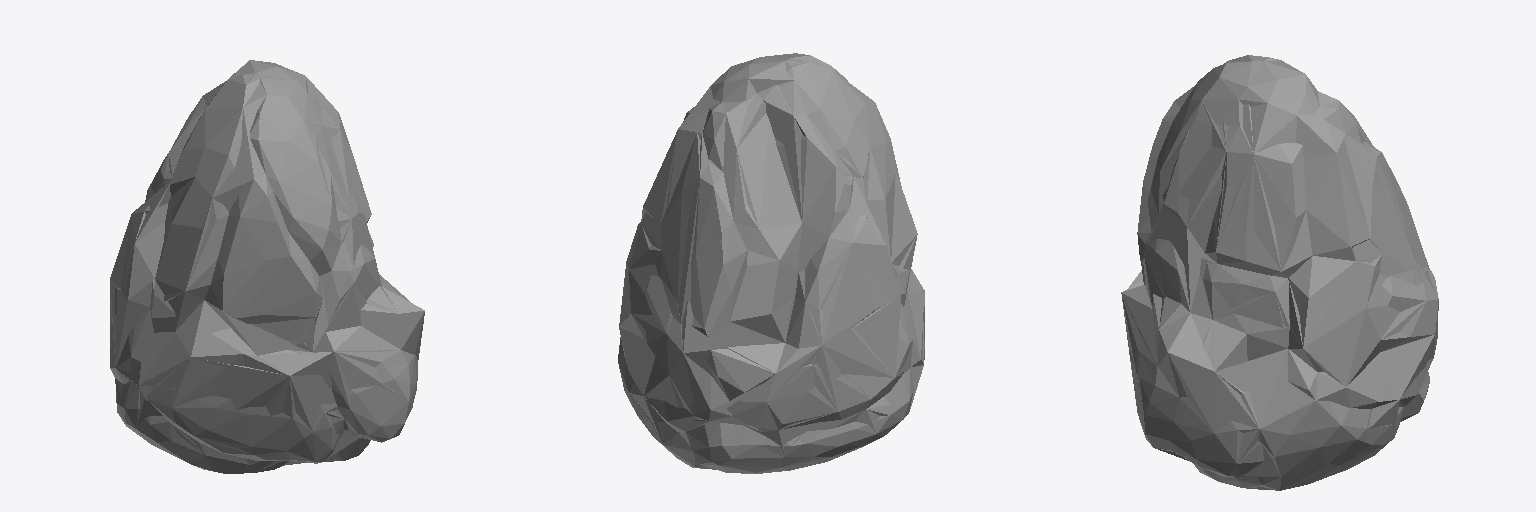
File: boulder01.obj
The picture shows the model from 3 angles: view 1: azimuth 30°, elevation 25°; view 2: azimuth 150°, elevation 25°; view 3: azimuth 270°, elevation 25°; orthographic projection.
Visible parts, largest first — view 1: BoulderOne300, BoulderOne100, collision-01, BoulderOne200; view 2: BoulderOne300, BoulderOne100, BoulderOne200, collision-01; view 3: BoulderOne300, collision-01, BoulderOne200, BoulderOne100.
Boxes of the visible parts, x1=… form: BoulderOne300: x1=110, y1=73, x2=417, y2=473; BoulderOne100: x1=110, y1=60, x2=424, y2=472; collision-01: x1=110, y1=77, x2=424, y2=465; BoulderOne200: x1=110, y1=60, x2=417, y2=460; BoulderOne300: x1=618, y1=57, x2=924, y2=473; BoulderOne100: x1=627, y1=55, x2=924, y2=442; BoulderOne200: x1=632, y1=53, x2=908, y2=461; collision-01: x1=619, y1=72, x2=923, y2=458; BoulderOne300: x1=1130, y1=55, x2=1438, y2=490; collision-01: x1=1121, y1=63, x2=1438, y2=476; BoulderOne200: x1=1137, y1=55, x2=1438, y2=490; BoulderOne100: x1=1122, y1=60, x2=1438, y2=471.
Size of the model in its own units: 4.62 by 6.17 by 4.65.